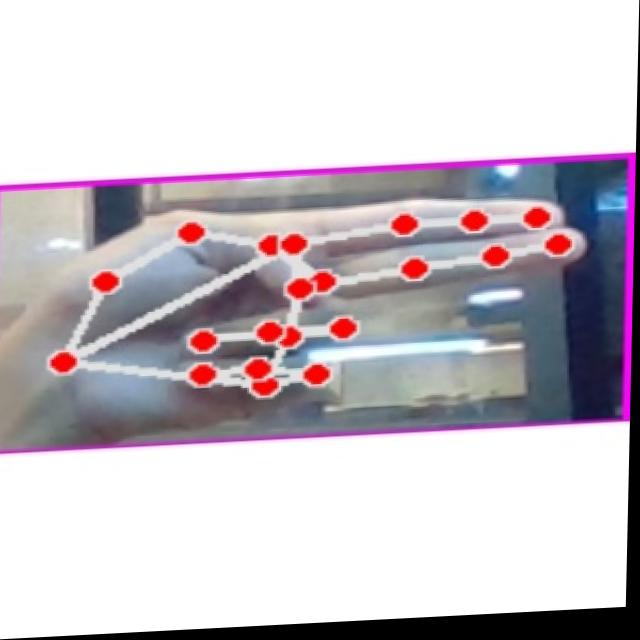H: (24, 179, 598, 443)
